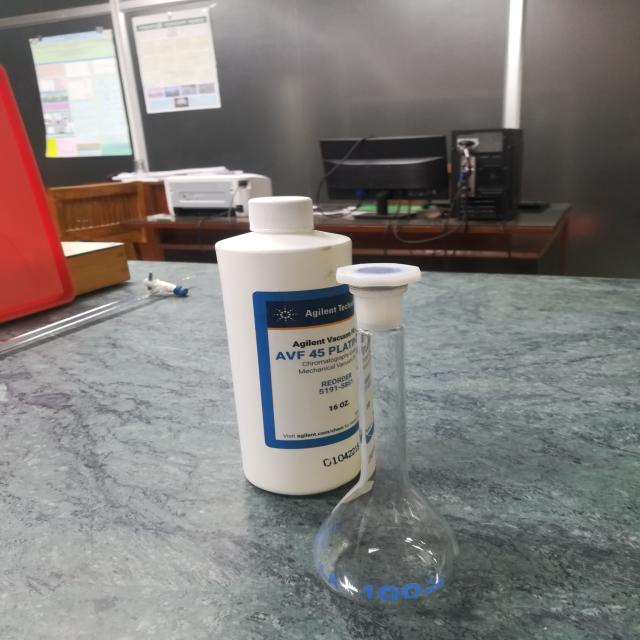Volumetric_Flask: (295, 244, 490, 622)
